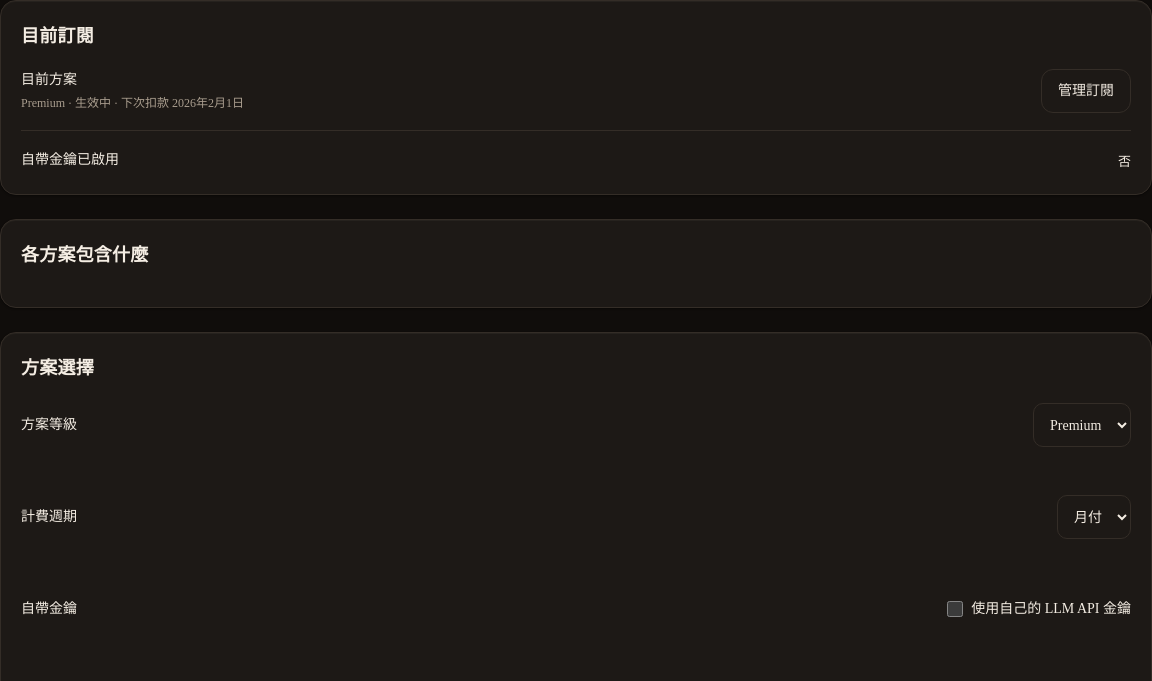
BillingPanel actions › closes the tab and shows an error when the portal link is missing
Click the button "管理訂閱": (1086, 91) [1041,69,1131,113]
(page scrolled)
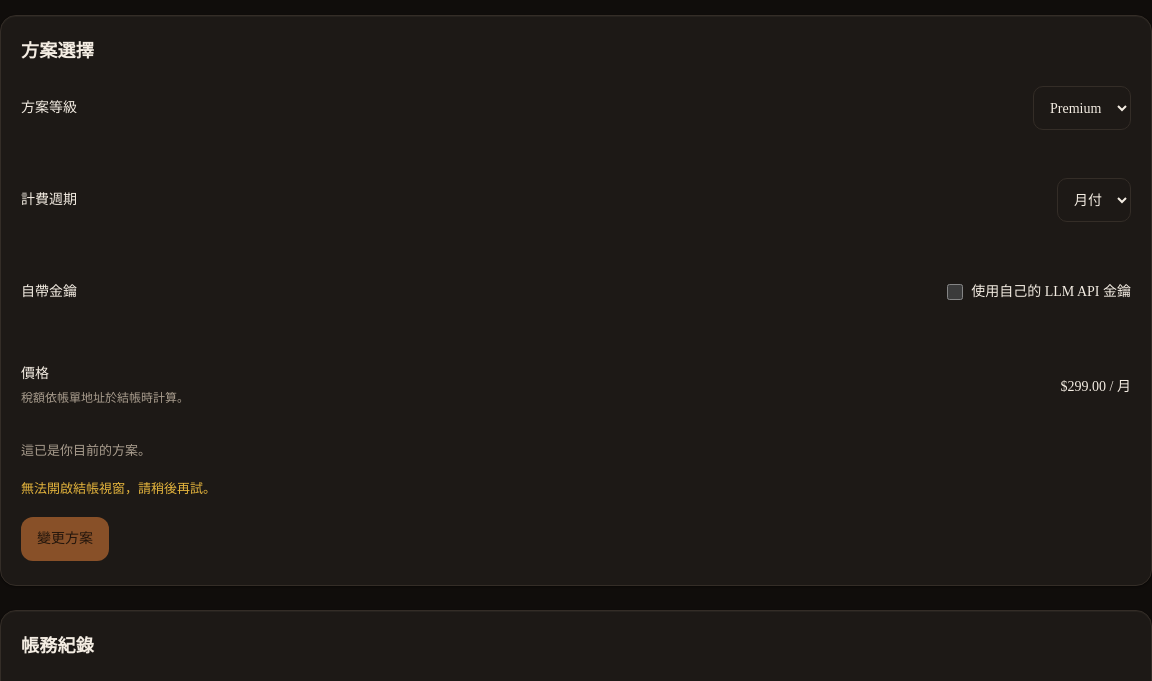
Now the message reads "無法開啟結帳視窗，請稍後再試。", box [21,481,216,496]
